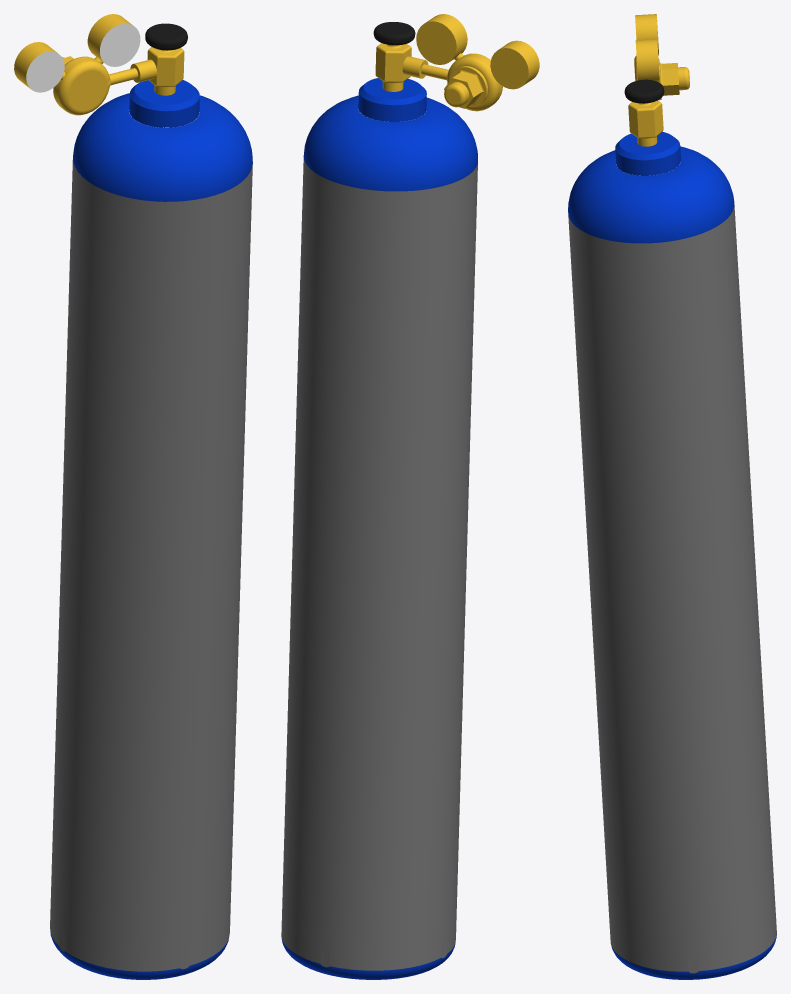
The model's file is 氧气罐.obj.
The picture shows the model from 3 angles, left to right: view 1: azimuth 30°, elevation 25°; view 2: azimuth 150°, elevation 25°; view 3: azimuth 270°, elevation 25°; orthographic projection. The views are drawn at different scales.
Visible parts, largest first — view 1: BRep_1; view 2: BRep_1; view 3: BRep_1.
Part boxes in pixels (x1,y1,x2,y2): BRep_1: (14, 14, 252, 979); BRep_1: (281, 14, 539, 979); BRep_1: (568, 14, 776, 979).
Bounding box in the file's own units: 329 × 1352 × 288.
